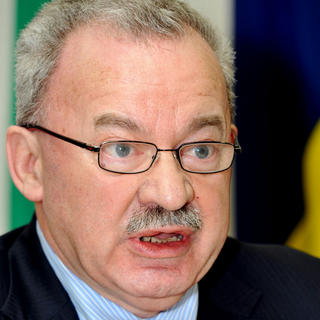eye: (182, 139, 224, 162), (104, 136, 146, 159)
